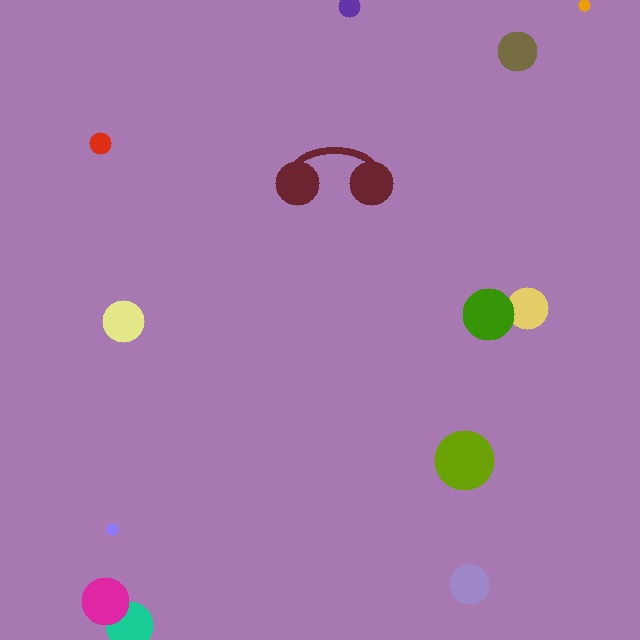over_ear: (271, 135, 397, 209)
